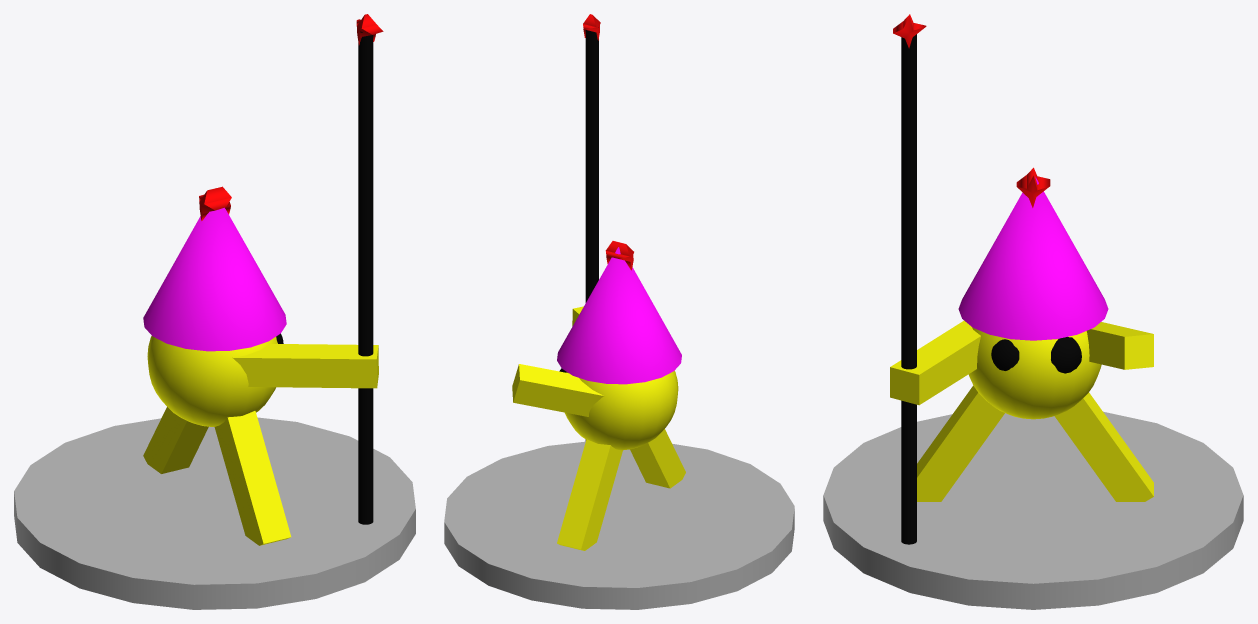
File: SM_Gagagogoo.fbx
The picture shows the model from 3 angles, left to right: view 1: azimuth 30°, elevation 25°; view 2: azimuth 150°, elevation 25°; view 3: azimuth 270°, elevation 25°; orthographic projection. The views are drawn at different scales.
Parts seen in each view (by area): view 1: base, Chapeau, tete, baton, Jambe_d, bras_d, Jambe_g, etoile; view 2: base, Chapeau, tete, Jambe_g, baton, bras_g, Jambe_d, etoile; view 3: base, Chapeau, baton, tete, Jambe_g, Jambe_d, bras_d, bras_g, oeil_g, oeil_d, etoile.
Part boxes in pixels (x1=…): base: x1=14, y1=417, x2=415, y2=609; Chapeau: x1=143, y1=207, x2=286, y2=351; tete: x1=147, y1=336, x2=277, y2=426; baton: x1=358, y1=31, x2=373, y2=524; Jambe_d: x1=214, y1=411, x2=291, y2=545; bras_d: x1=232, y1=344, x2=378, y2=388; Jambe_g: x1=143, y1=407, x2=208, y2=473; etoile: x1=199, y1=186, x2=231, y2=220; base: x1=444, y1=441, x2=794, y2=609; Chapeau: x1=557, y1=247, x2=681, y2=384; tete: x1=565, y1=370, x2=678, y2=450; Jambe_g: x1=557, y1=439, x2=622, y2=550; baton: x1=585, y1=27, x2=598, y2=441; bras_g: x1=512, y1=364, x2=603, y2=416; Jambe_d: x1=630, y1=429, x2=685, y2=488; etoile: x1=605, y1=241, x2=633, y2=270; base: x1=823, y1=411, x2=1243, y2=609; Chapeau: x1=958, y1=177, x2=1108, y2=340; baton: x1=901, y1=34, x2=916, y2=544; tete: x1=968, y1=327, x2=1101, y2=419; Jambe_g: x1=1054, y1=392, x2=1153, y2=501; Jambe_d: x1=917, y1=385, x2=1004, y2=501; bras_d: x1=890, y1=320, x2=980, y2=405; bras_g: x1=1086, y1=322, x2=1153, y2=369; oeil_g: x1=1051, y1=337, x2=1081, y2=373; oeil_d: x1=991, y1=339, x2=1019, y2=370; etoile: x1=1016, y1=167, x2=1050, y2=207.
Bounding box in the file's own units: 12.59 × 18.28 × 12.59.
